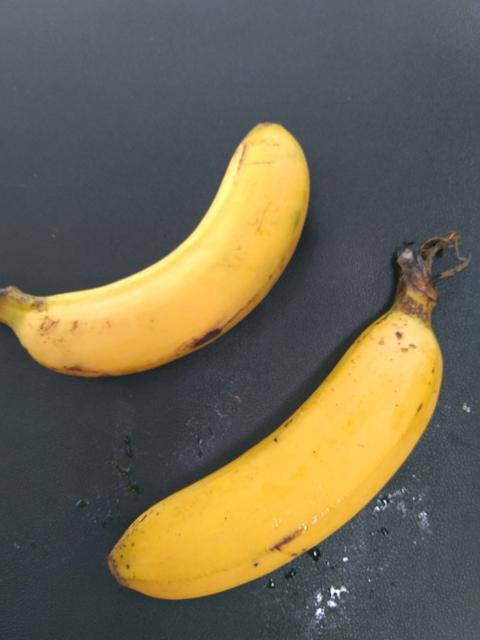freshripe: (91, 323, 456, 620), (0, 110, 324, 372)
